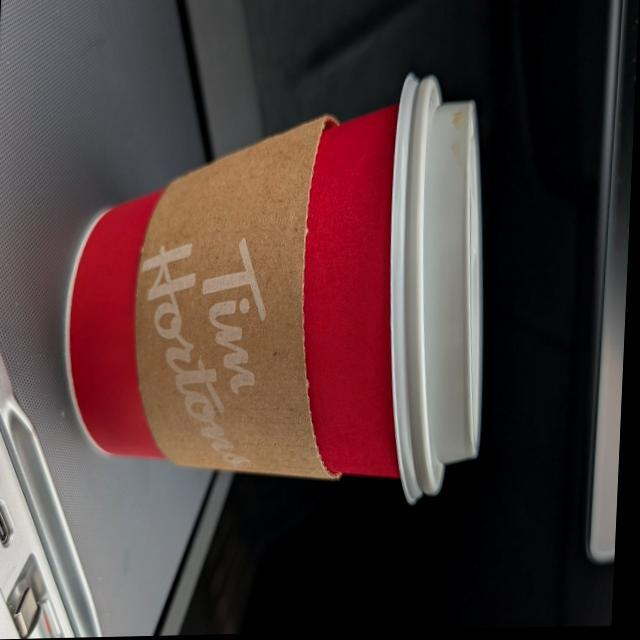timmies: (52, 62, 500, 516)
